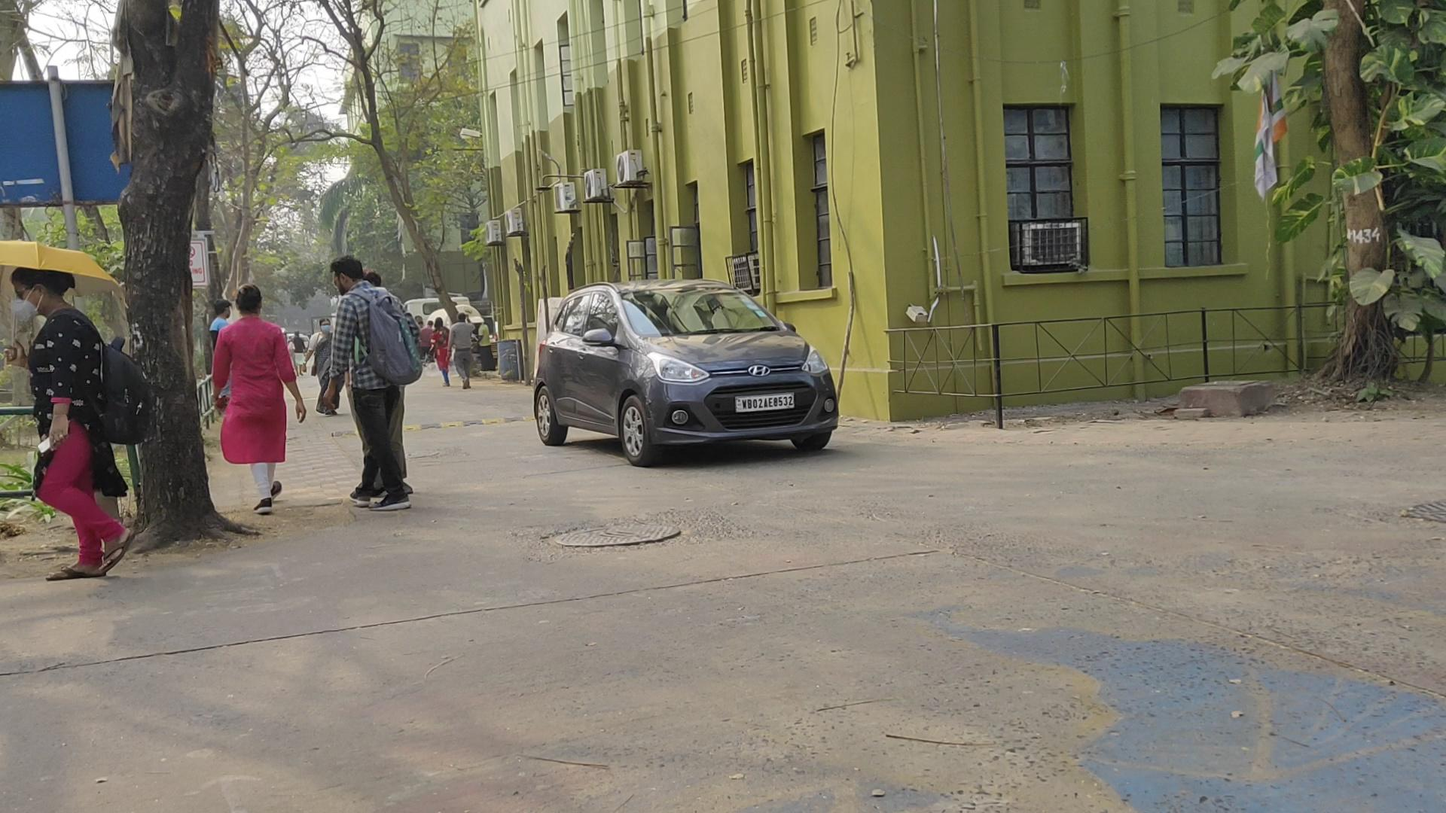car: (533, 279, 839, 467)
